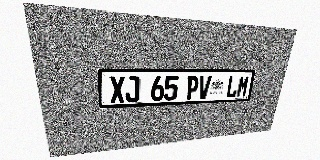5: (164, 76, 178, 101)
6: (151, 76, 165, 101)
J: (125, 76, 140, 102)
L: (226, 76, 240, 98)
M: (236, 76, 250, 97)
P: (185, 76, 200, 100)
V: (197, 76, 211, 99)
X: (109, 76, 125, 103)
